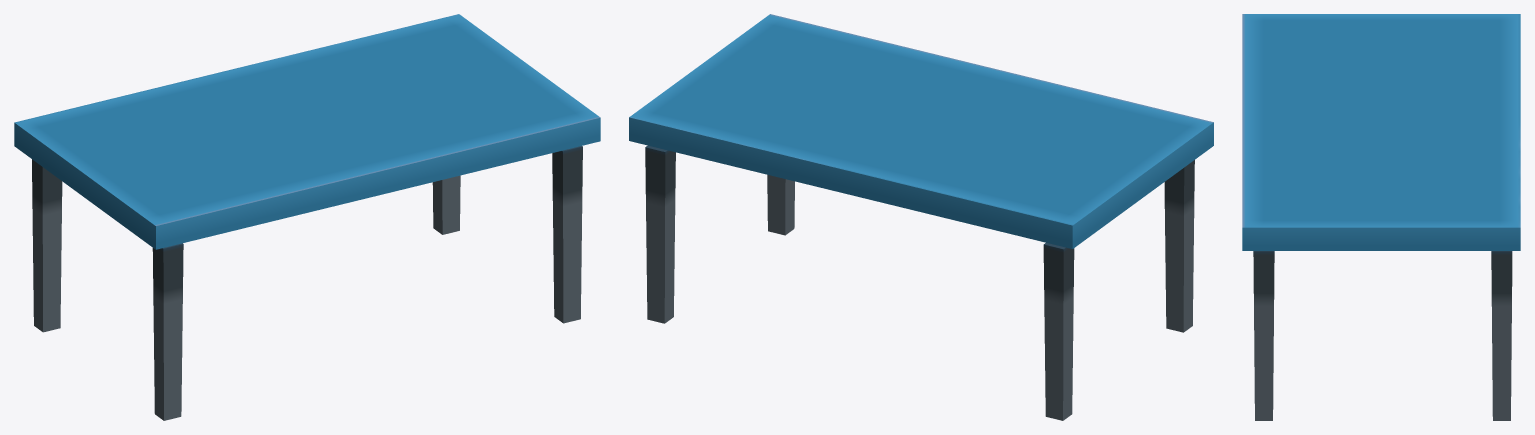
The model's file is TableLarge.obj.
3 renders of one model, left to right at view 1: azimuth 30°, elevation 25°; view 2: azimuth 150°, elevation 25°; view 3: azimuth 270°, elevation 25°, orthographic.
Visible parts, largest first — view 1: TableLarge.001; view 2: TableLarge.001; view 3: TableLarge.001.
Part boxes in pixels (x1,y1,x2,y2): TableLarge.001: (14, 14, 600, 420); TableLarge.001: (629, 14, 1213, 420); TableLarge.001: (1242, 14, 1520, 420).
Size of the model in its own units: 1.87 by 0.8179 by 1.03.
